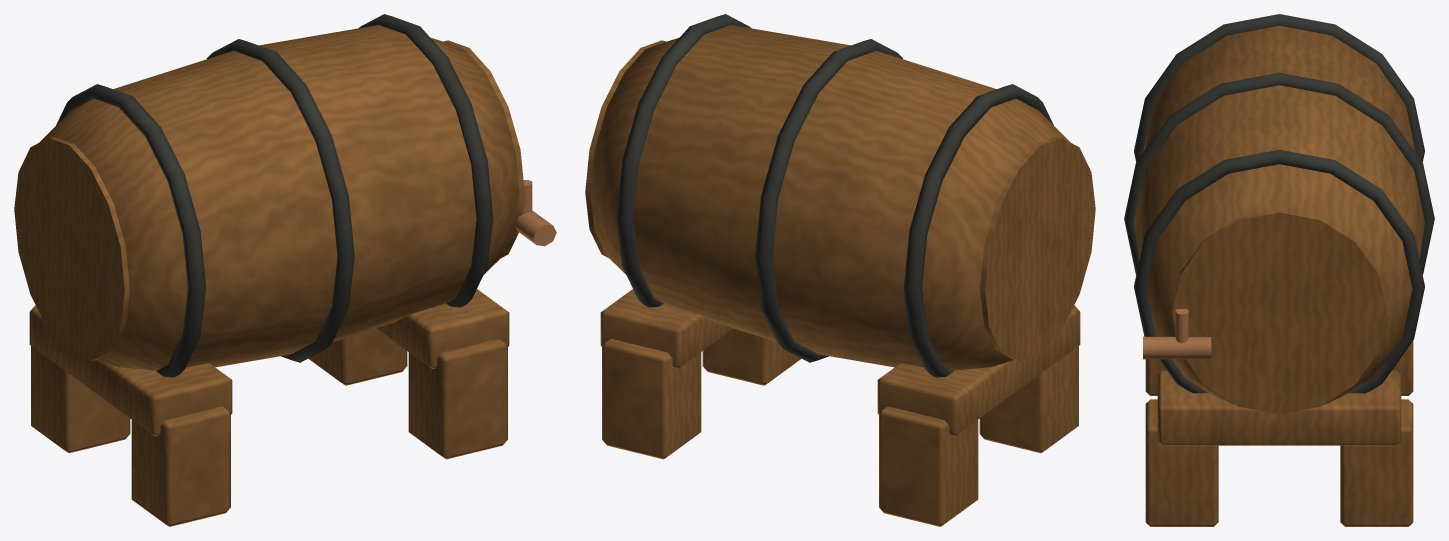
The model's file is Furn_BarrelWine.fbx.
3 renders of one model, left to right at view 1: azimuth 30°, elevation 25°; view 2: azimuth 150°, elevation 25°; view 3: azimuth 270°, elevation 25°, orthographic. The views are drawn at different scales.
Visible parts, largest first — view 1: Furn_BarrelWine_Mesh; view 2: Furn_BarrelWine_Mesh; view 3: Furn_BarrelWine_Mesh.
Part boxes in pixels (bbox=[...]): Furn_BarrelWine_Mesh: bbox=[14, 14, 556, 526]; Furn_BarrelWine_Mesh: bbox=[585, 14, 1095, 526]; Furn_BarrelWine_Mesh: bbox=[1124, 14, 1434, 526].
Size of the model in its own units: 0.9 by 0.8 by 0.6.
